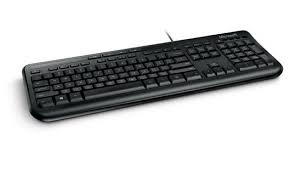keyboard: (16, 26, 287, 125)
